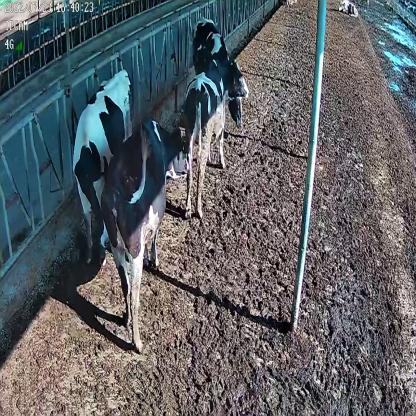cow: (100, 119, 187, 353), (72, 66, 132, 268), (182, 56, 250, 218), (192, 16, 243, 129), (335, 0, 359, 17)
